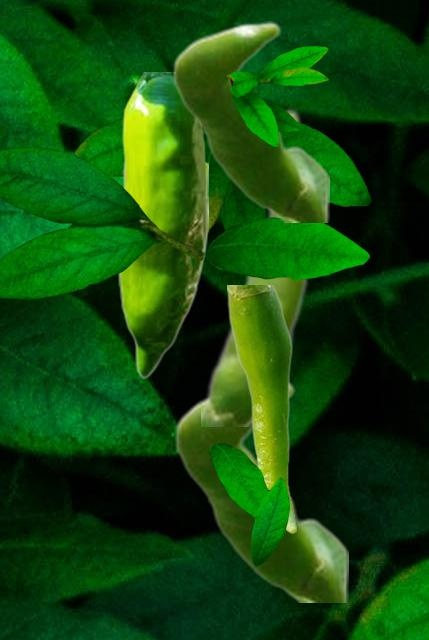green_chili: (174, 380, 347, 601), (201, 107, 311, 425), (172, 21, 328, 221), (117, 72, 207, 377), (227, 285, 295, 532)
